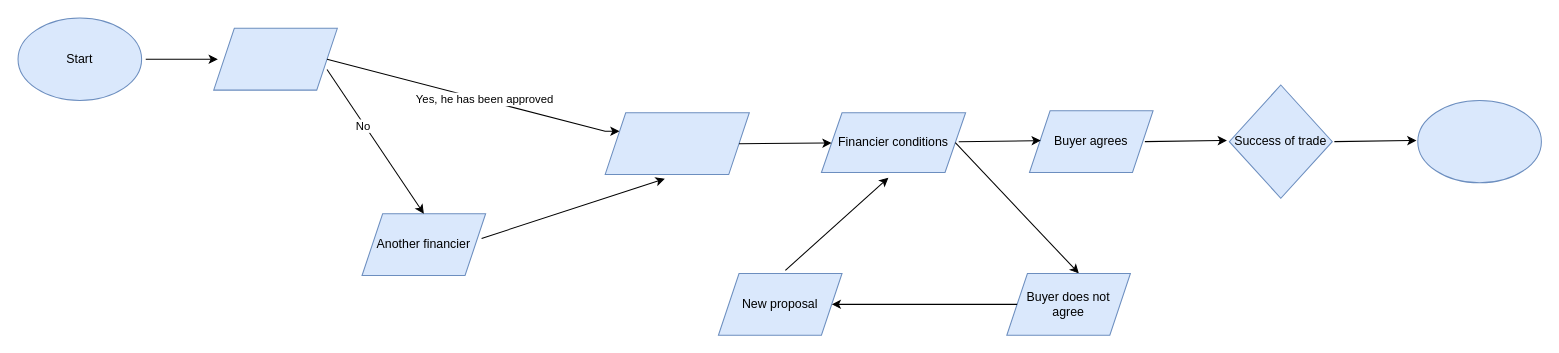
The diagram is 1559 pixels wide and 353 high, and some of its shapes have lost their labels. The shapes that lost their labels are listed below. From the top down, each one's box as (x1, y1, x2, y2) in pixels, then its label:
(213, 27, 337, 90): Financier
(604, 112, 749, 175): Collaboration space
(1417, 99, 1541, 183): End
